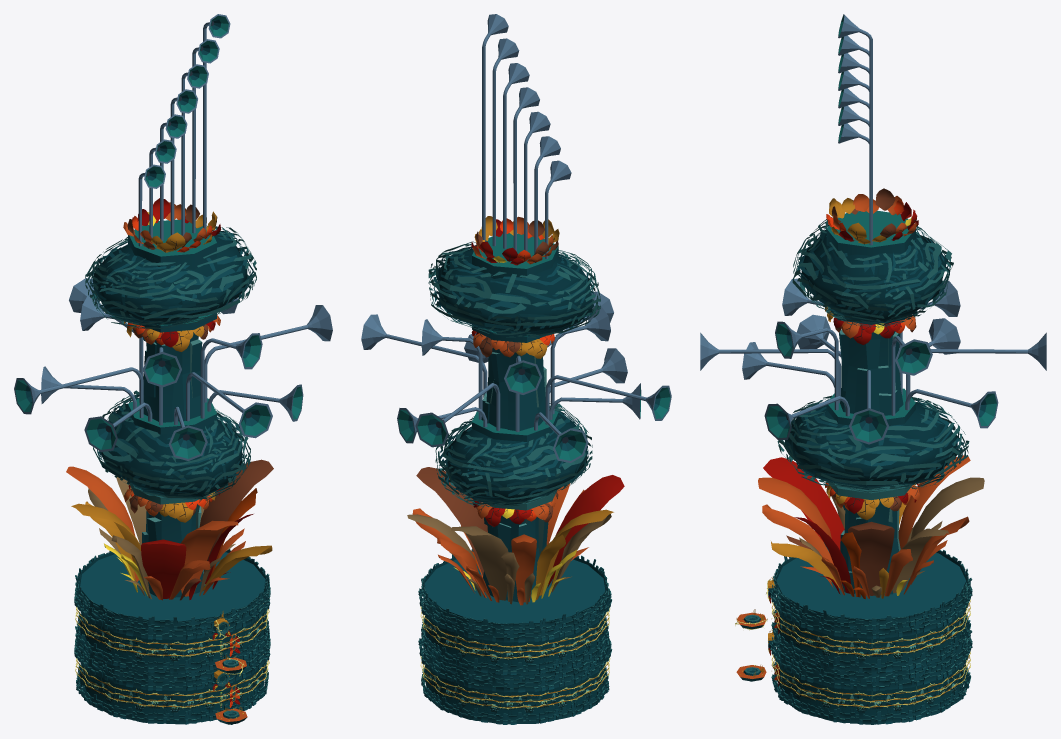
The model's file is Instrumento_Outono.fbx.
3 renders of one model, left to right at view 1: azimuth 30°, elevation 25°; view 2: azimuth 150°, elevation 25°; view 3: azimuth 270°, elevation 25°, orthographic. The views are drawn at different scales.
Parts seen in each view (by area): view 1: InstrumentoTorre_Outono, InstrumentoPauta (×2); view 2: InstrumentoTorre_Outono, InstrumentoPauta (×2); view 3: InstrumentoTorre_Outono, InstrumentoPauta (×2).
Part boxes in pixels (x1,y1,x2,y2): InstrumentoTorre_Outono: [14, 14, 332, 724]; InstrumentoPauta (×2): [75, 603, 269, 708]; InstrumentoTorre_Outono: [361, 14, 671, 724]; InstrumentoPauta (×2): [420, 606, 610, 709]; InstrumentoTorre_Outono: [700, 14, 1046, 724]; InstrumentoPauta (×2): [771, 599, 970, 708].
Size of the model in its own units: 5509 by 11818 by 5418.
